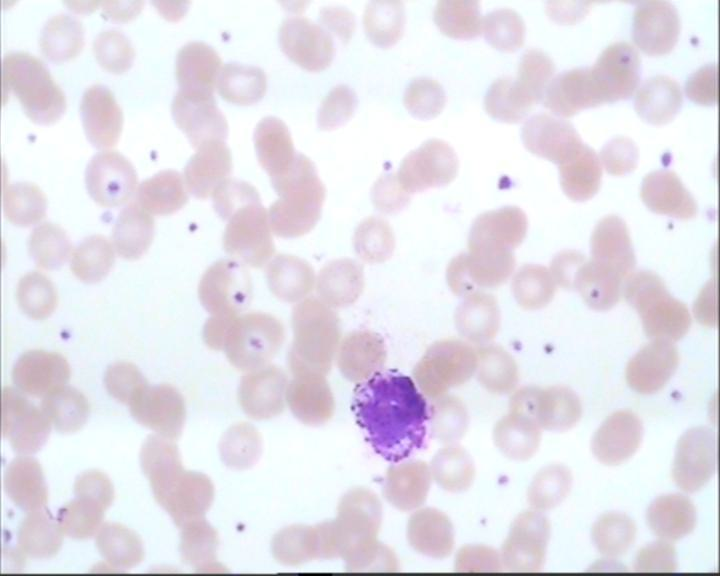baso: (344, 360, 435, 466)
